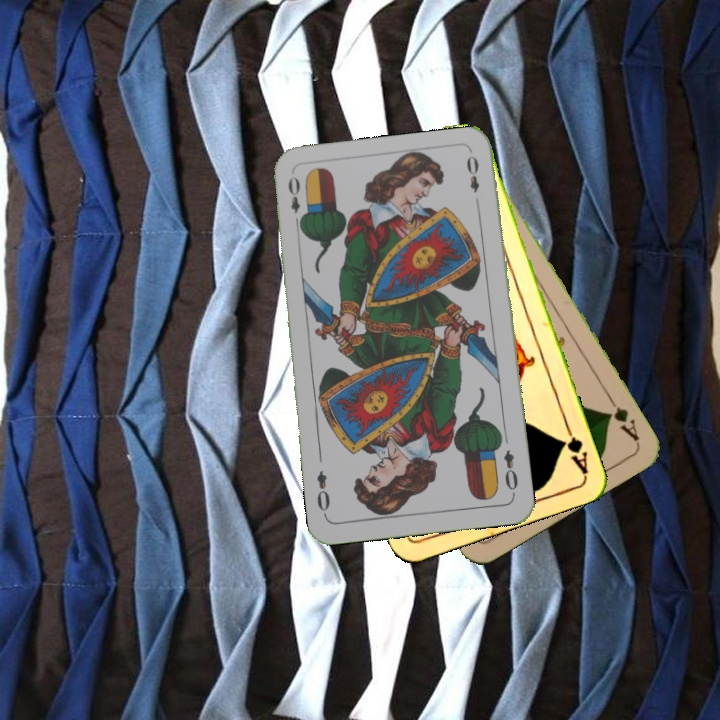EO: (284, 172, 307, 230), (500, 446, 521, 498)
GA: (602, 392, 642, 445), (557, 419, 591, 477)
